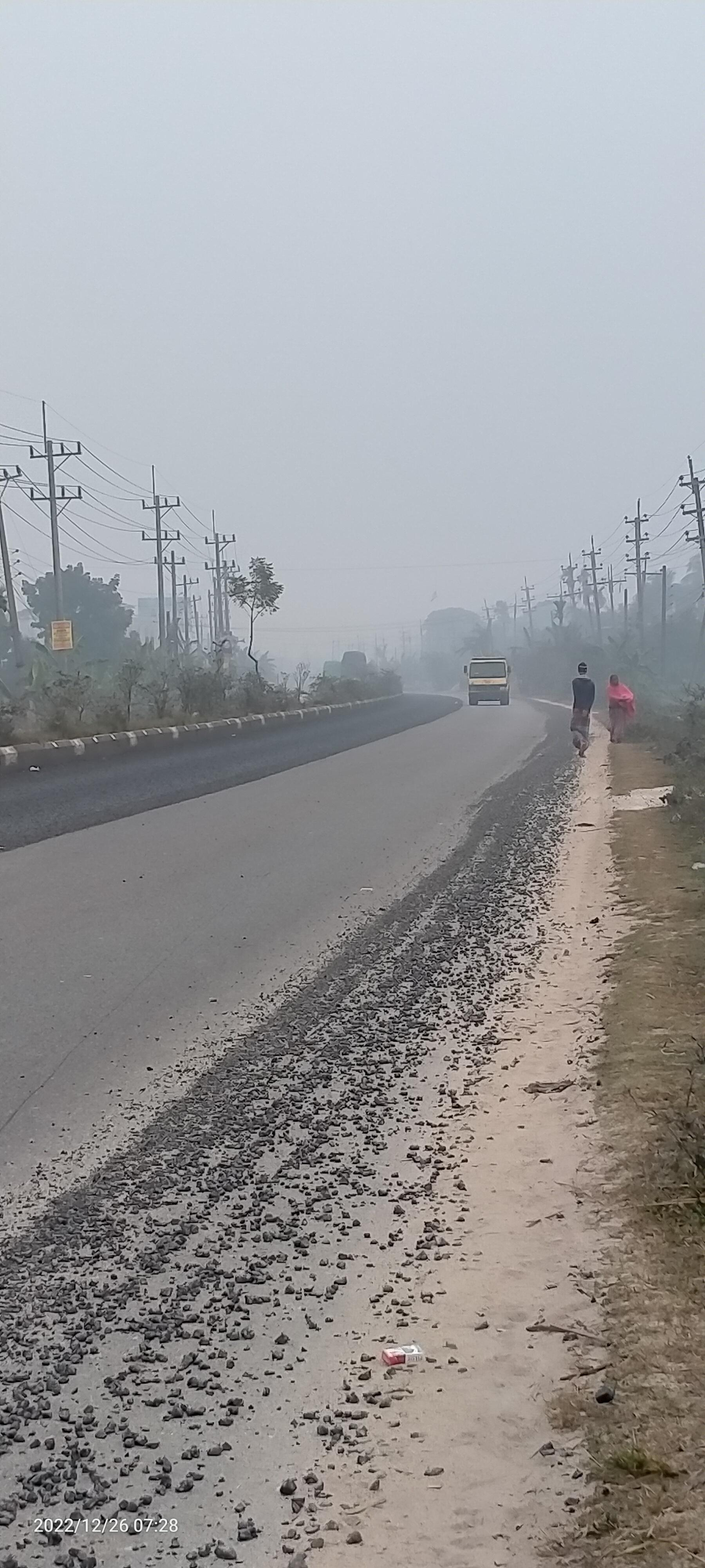Truck: (457, 647, 521, 715)
